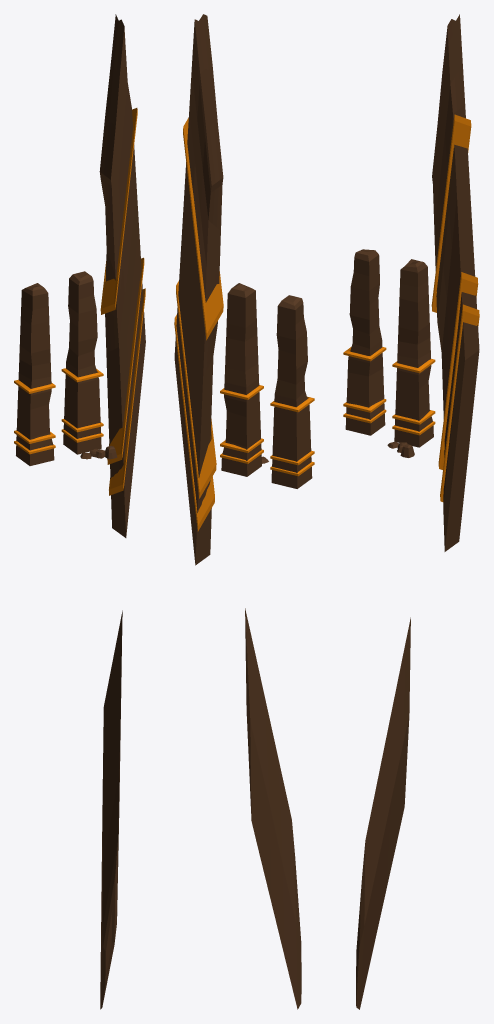
Rendered from Pillers2.fbx.
The picture shows the model from 3 angles, left to right: view 1: azimuth 30°, elevation 25°; view 2: azimuth 150°, elevation 25°; view 3: azimuth 330°, elevation 25°; orthographic projection. The views are drawn at different scales.
Parts seen in each view (by area): view 1: Cube.029, Cube.034, Cube.024, Cube.025, Cube.043, Cube.042, Cube.041; view 2: Cube.029, Cube.034, Cube.025, Cube.024, Cube.043, Cube.042, Cube.041; view 3: Cube.029, Cube.034, Cube.025, Cube.024, Cube.043, Cube.042, Cube.041.
Boxes of the visible parts, x1,y1,x2,y2 form: Cube.029: [99, 14, 145, 537]; Cube.034: [100, 610, 122, 1009]; Cube.024: [16, 283, 54, 465]; Cube.025: [63, 271, 101, 454]; Cube.043: [100, 108, 137, 314]; Cube.042: [107, 257, 144, 464]; Cube.041: [109, 288, 145, 495]; Cube.029: [174, 14, 223, 565]; Cube.034: [245, 608, 301, 1009]; Cube.025: [221, 283, 261, 476]; Cube.024: [271, 295, 312, 488]; Cube.043: [183, 118, 223, 340]; Cube.042: [176, 281, 216, 498]; Cube.041: [174, 314, 214, 531]; Cube.029: [432, 14, 479, 551]; Cube.034: [356, 617, 410, 1009]; Cube.025: [394, 259, 433, 447]; Cube.024: [345, 249, 385, 435]; Cube.043: [431, 114, 471, 312]; Cube.042: [438, 272, 478, 469]; Cube.041: [440, 304, 479, 501].
Bounding box in the file's own units: 887 × 6877 × 655.
